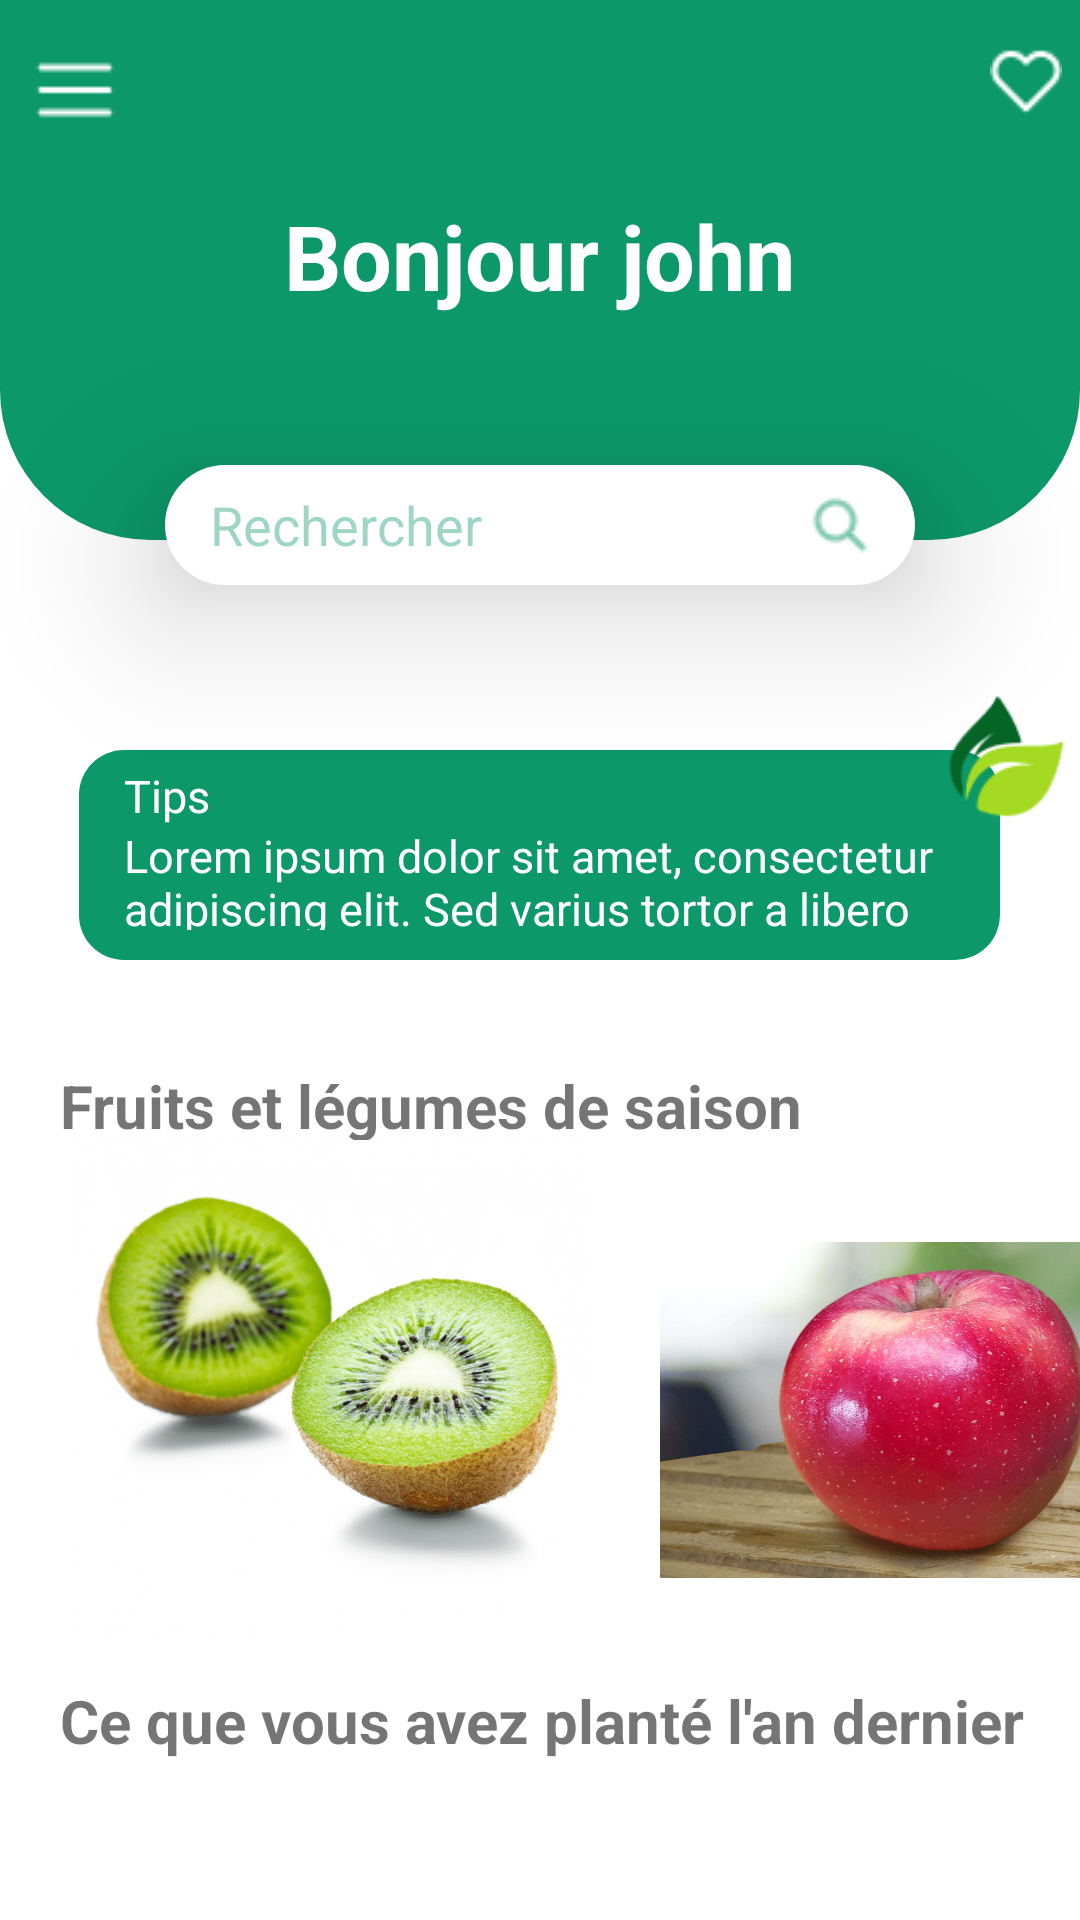

Where to tap for icons on this 1080px x 1920px app screen, as (x,y):
heart: (1026,81)
menu: (75,90)
